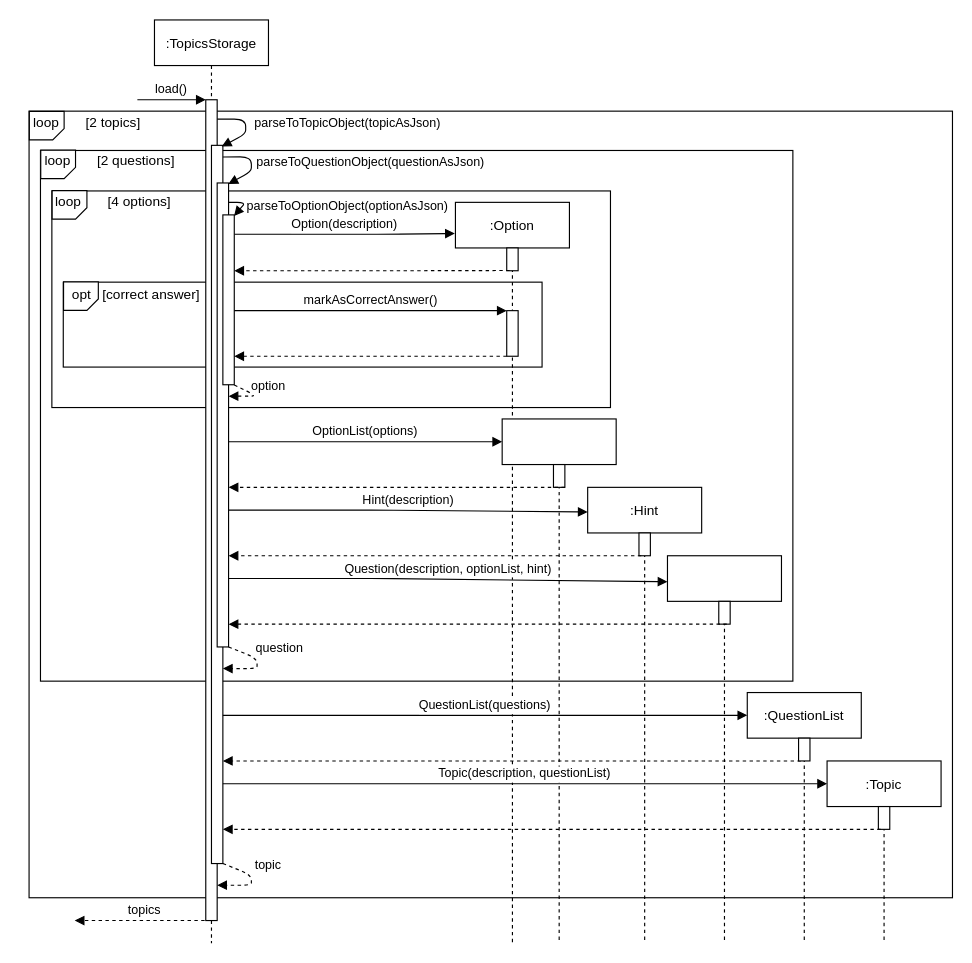
The diagram is 972 pixels wide and 963 high, and some of its shapes have lost their labels. The shapes that lost their labels are listed below. From the top down, each one's box as (x1, y1, x2, y2) in pixels, then its label:
(501, 418, 616, 943): :OptionList
(666, 555, 781, 943): :Question
